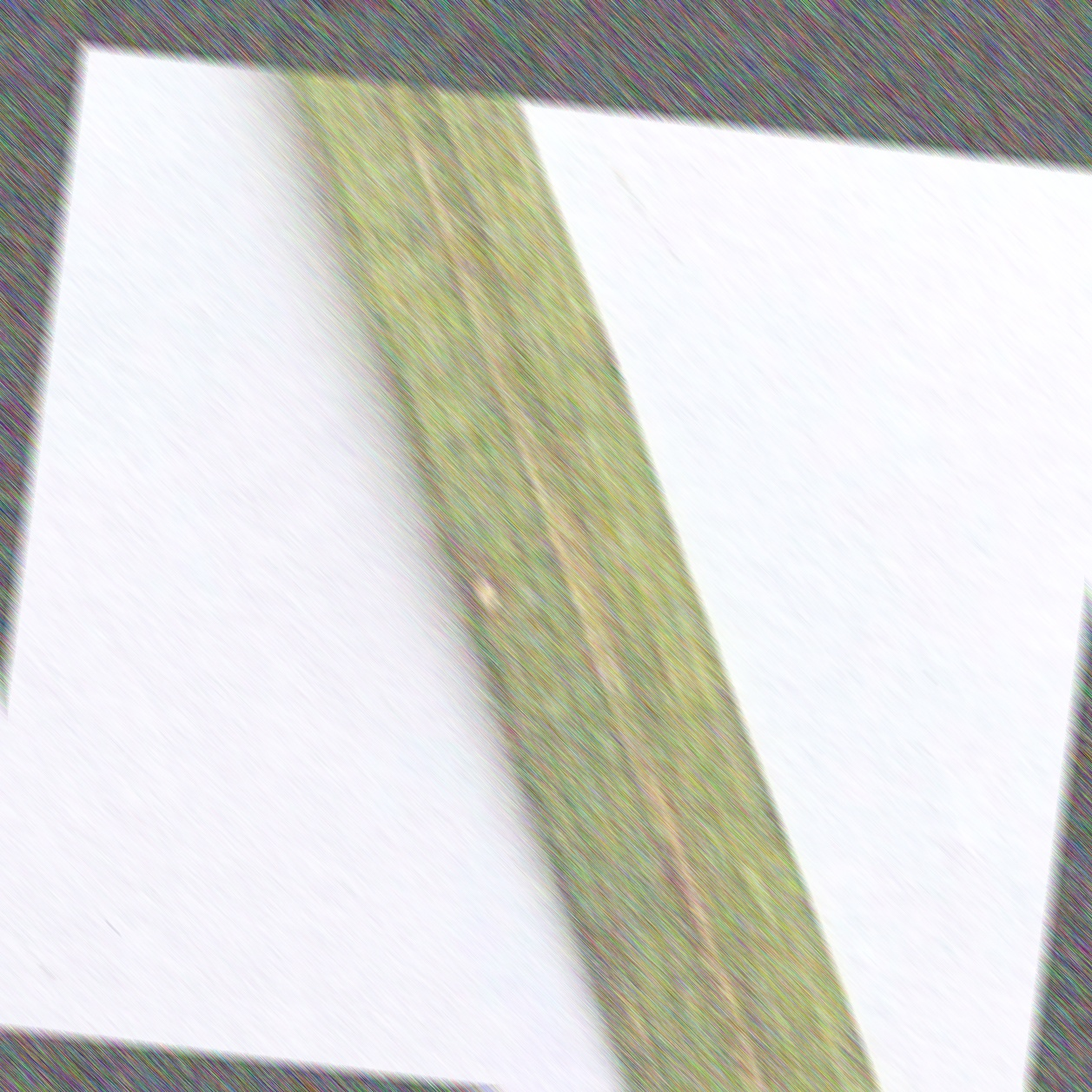Brown_Spot: (454, 528, 536, 628)
